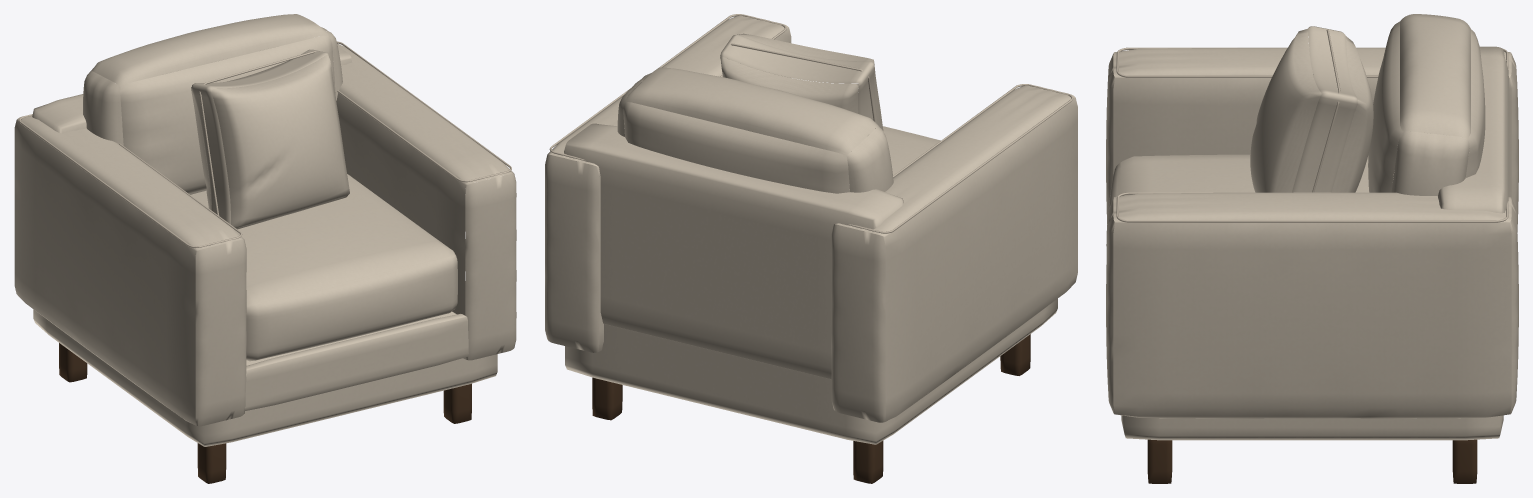
File: armchair_sand_mobile.glb
3 renders of one model, left to right at view 1: azimuth 30°, elevation 25°; view 2: azimuth 150°, elevation 25°; view 3: azimuth 270°, elevation 25°, orthographic. The views are drawn at different scales.
Visible parts, largest first — view 1: arm_-1, seat_cushion, arm_1, loose_pillow_1, back_cushion, upholstered_base, front_apron, walnut_foot (×3), back_frame, arm_welt_-1, arm_welt_1, pillow_welt; view 2: arm_-1, back_frame, back_cushion, upholstered_base, arm_1, loose_pillow_1, walnut_foot (×3), seat_cushion, arm_welt_-1, arm_welt_1; view 3: arm_1, arm_-1, back_cushion, loose_pillow_1, upholstered_base, back_frame, seat_cushion, walnut_foot (×2), arm_welt_1, arm_welt_-1, pillow_welt.
Boxes of the visible parts, x1,y1,x2,y2 form: arm_-1: (14, 116, 246, 426); seat_cushion: (191, 174, 457, 361); arm_1: (335, 43, 516, 360); loose_pillow_1: (191, 49, 349, 229); back_cushion: (83, 14, 342, 194); upholstered_base: (33, 309, 497, 446); front_apron: (244, 313, 468, 410); walnut_foot (×3): (59, 343, 471, 483); back_frame: (32, 46, 352, 133); arm_welt_-1: (19, 114, 242, 248); arm_welt_1: (336, 41, 511, 182); pillow_welt: (199, 51, 316, 215); arm_-1: (831, 85, 1077, 422); back_frame: (564, 123, 903, 379); back_cushion: (617, 67, 893, 193); upholstered_base: (565, 298, 1057, 444); arm_1: (545, 15, 791, 352); loose_pillow_1: (720, 33, 883, 151); walnut_foot (×3): (592, 334, 1030, 483); seat_cushion: (882, 126, 940, 175); arm_welt_-1: (847, 84, 1073, 233); arm_welt_1: (549, 14, 786, 161); arm_1: (1106, 192, 1518, 418); arm_-1: (1106, 47, 1518, 232); back_cushion: (1368, 14, 1485, 195); loose_pillow_1: (1250, 26, 1373, 192); upholstered_base: (1121, 415, 1503, 440); back_frame: (1438, 46, 1509, 213); seat_cushion: (1106, 154, 1394, 251); walnut_foot (×2): (1147, 439, 1477, 483); arm_welt_1: (1116, 192, 1508, 222); arm_welt_-1: (1116, 47, 1508, 77); pillow_welt: (1312, 29, 1340, 192).
Size of the model in its own units: 0.92 by 0.86 by 0.9.
Materials: 3 (1 with a texture image).
